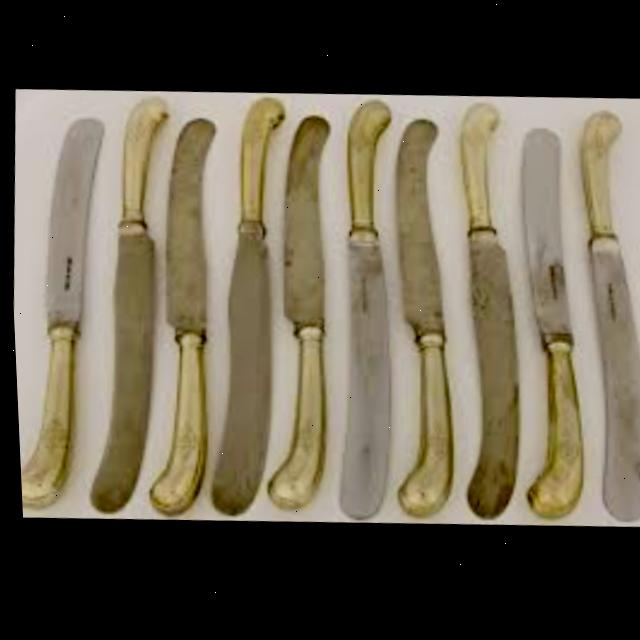Knife: (68, 94, 181, 516), (190, 95, 298, 519), (4, 113, 117, 512), (436, 102, 535, 524), (128, 115, 227, 517), (500, 129, 598, 523), (374, 117, 469, 522), (247, 113, 342, 514), (318, 98, 405, 523), (556, 109, 640, 526)
